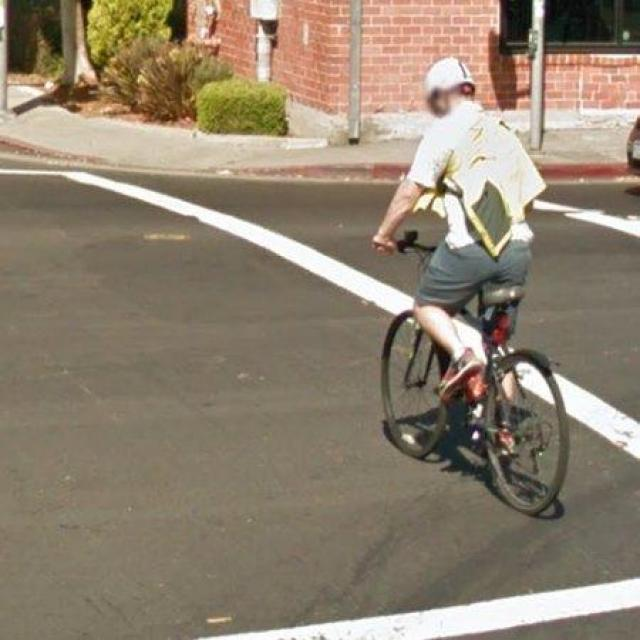bicycle: (384, 287, 572, 517)
